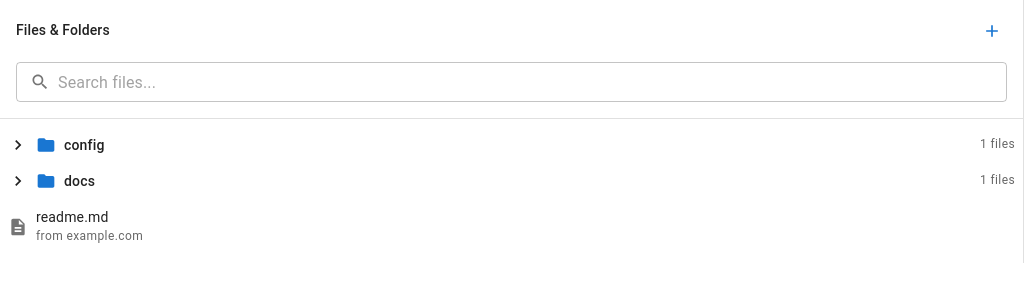
Scenario: FileExplorer › should show no results message when search yields no results
The width and height of the screenshot is (1024, 307).
Step 1. Type "nonexistent" into the field with placeholder "Search files..." → point(532, 82), box x1=58 y1=62 x2=1007 y2=102
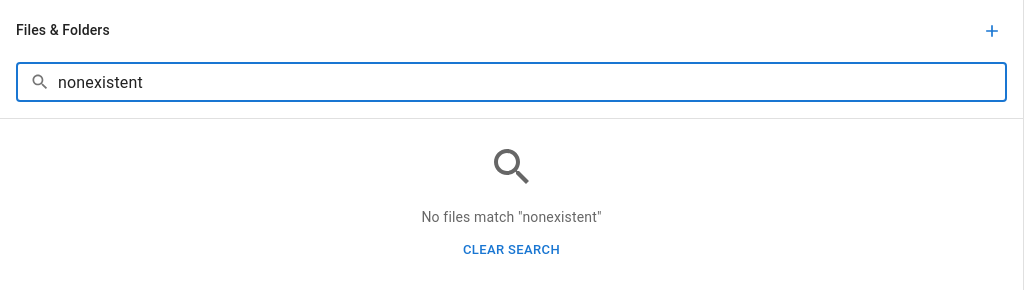
Expected: the text "No files match \"nonexistent\"" is shown, x1=422 y1=209 x2=602 y2=225
Expected: the button "Clear search" is shown, x1=458 y1=235 x2=565 y2=266
